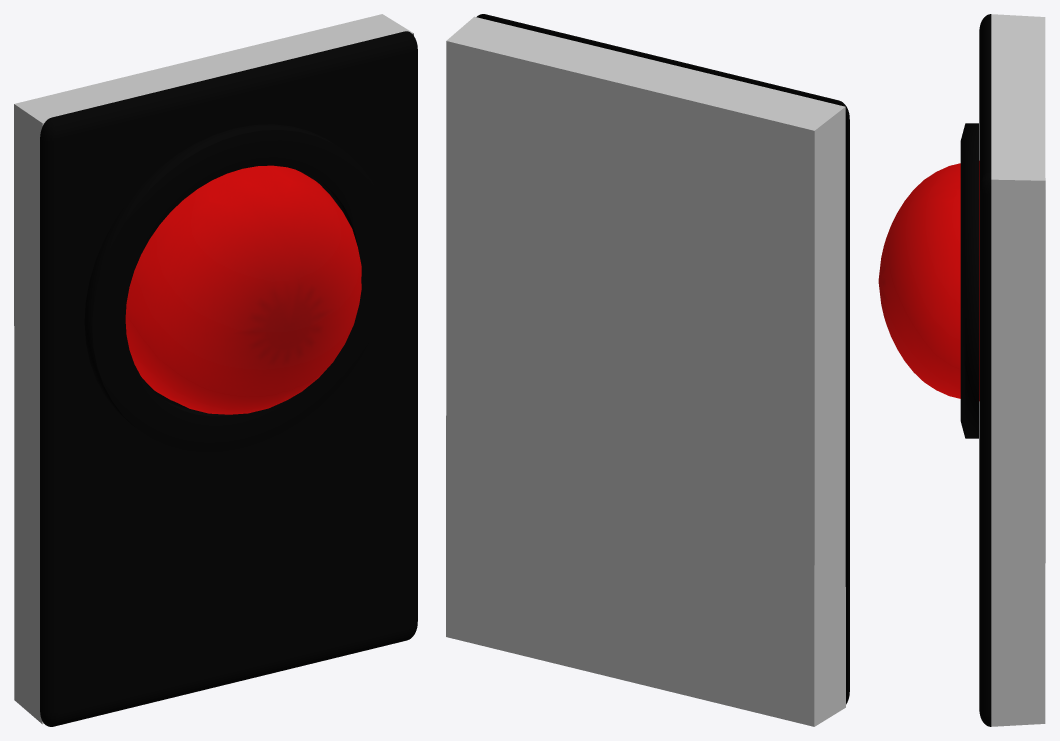
The model's file is emergency-button.glb.
The picture shows the model from 3 angles, left to right: view 1: azimuth 30°, elevation 25°; view 2: azimuth 150°, elevation 25°; view 3: azimuth 270°, elevation 25°; orthographic projection. The views are drawn at different scales.
Parts seen in each view (by area): view 1: box-top, button, Torus, box-bottom; view 2: box-bottom, box-top; view 3: box-bottom, button, box-top, Torus.
Part boxes in pixels (x1,y1,x2,y2): box-top: (40,31,417,726); button: (125,165,361,414); Torus: (84,124,392,452); box-bottom: (14,14,413,724); box-bottom: (446,16,845,726); box-top: (476,14,849,704); box-bottom: (991,14,1045,726); button: (878,161,979,400); box-top: (979,14,991,726); Torus: (960,123,978,438).
Bounding box in the file's own units: 0.1611 × 0.2491 × 0.068.
Materials: 4 (1 with a texture image).
